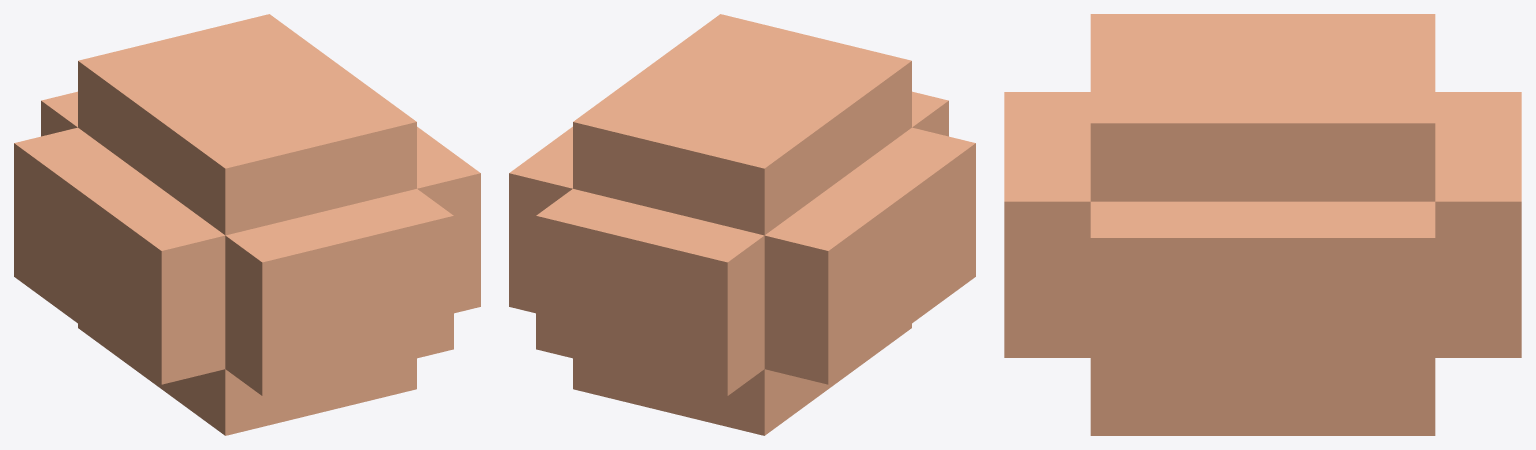
Rendered from Hand.obj.
3 views of the same model, side by side, from view 1: azimuth 30°, elevation 25°; view 2: azimuth 150°, elevation 25°; view 3: azimuth 270°, elevation 25° (orthographic). The views are drawn at different scales.
Size of the model in its own units: 5 by 4 by 6.
1 material, 1 textured.
